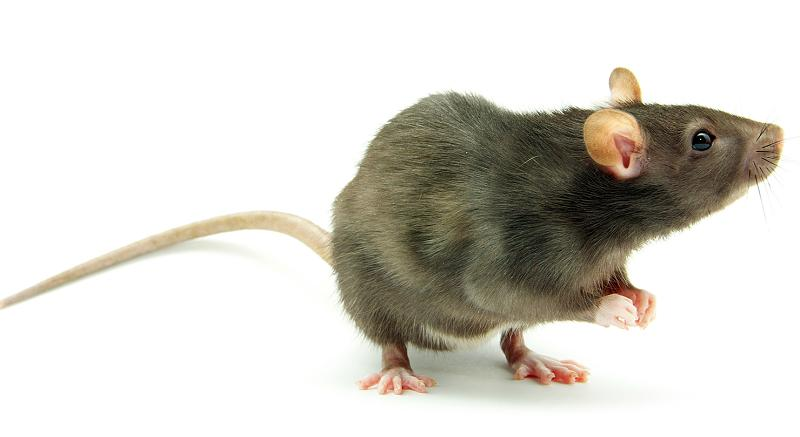rat: (6, 62, 790, 400)
